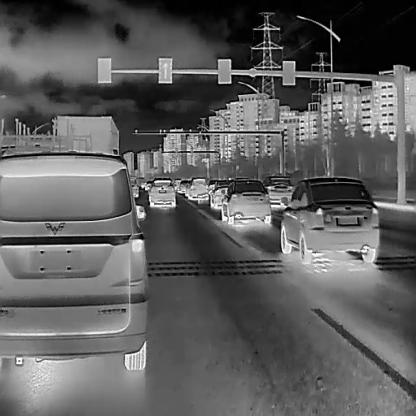car: (0, 151, 146, 371), (278, 174, 379, 262), (219, 176, 270, 224), (147, 176, 176, 208), (259, 175, 292, 203), (208, 178, 233, 207), (186, 177, 210, 200), (127, 174, 139, 197), (177, 178, 189, 193)
truck: (55, 112, 120, 169)
